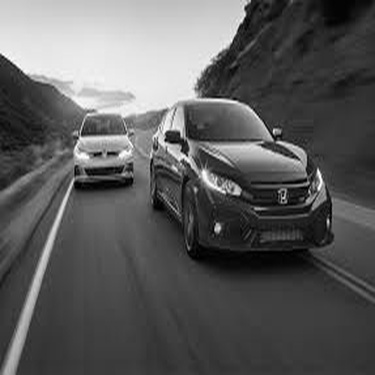car: (138, 70, 366, 272), (65, 100, 134, 192)
